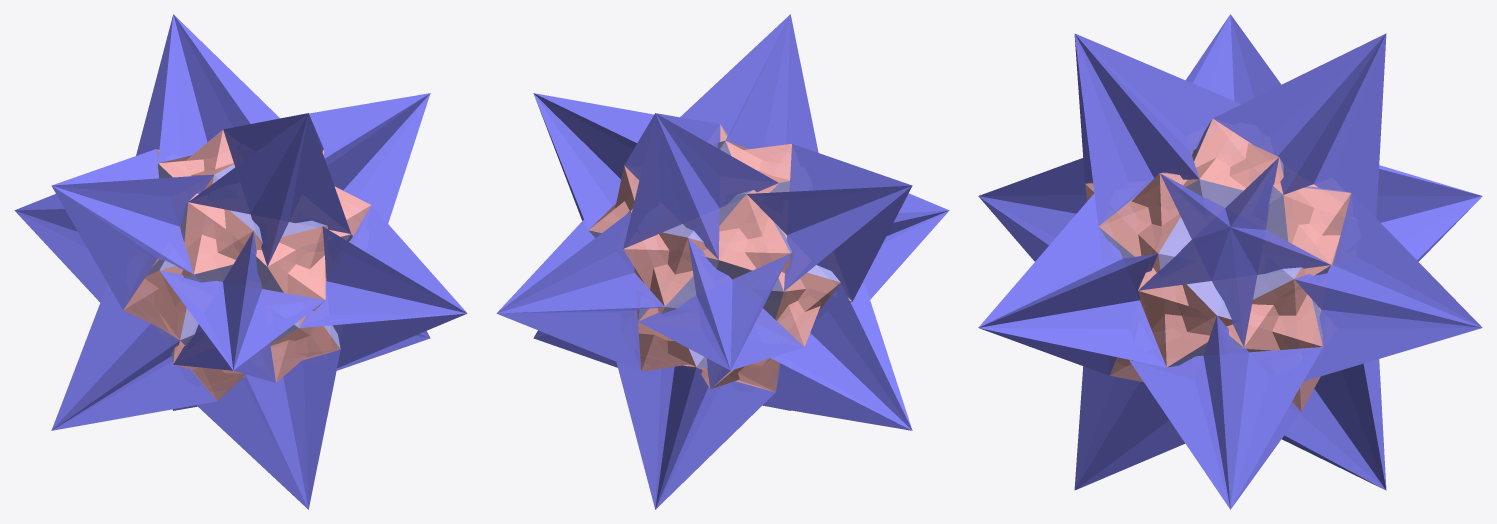
The model's file is 52_Dodekaugmented_Sid.obj.
3 renders of one model, left to right at view 1: azimuth 30°, elevation 25°; view 2: azimuth 150°, elevation 25°; view 3: azimuth 270°, elevation 25°, orthographic. The views are drawn at different scales.
Size of the model in its own units: 2.59 by 2.59 by 2.59.
